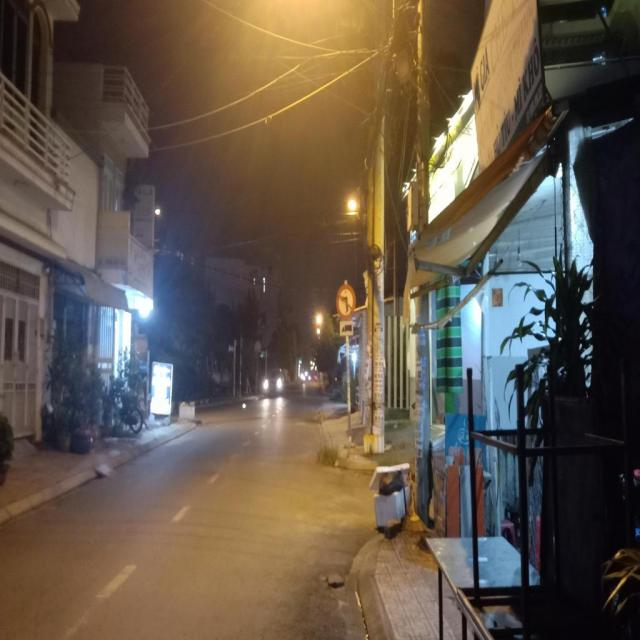cam_re_trai: (336, 283, 356, 319)
khac: (339, 321, 353, 336)
